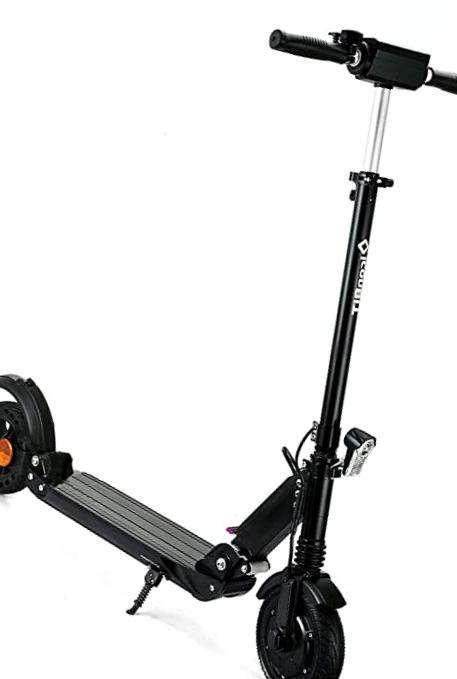scooter: (1, 29, 457, 679)
